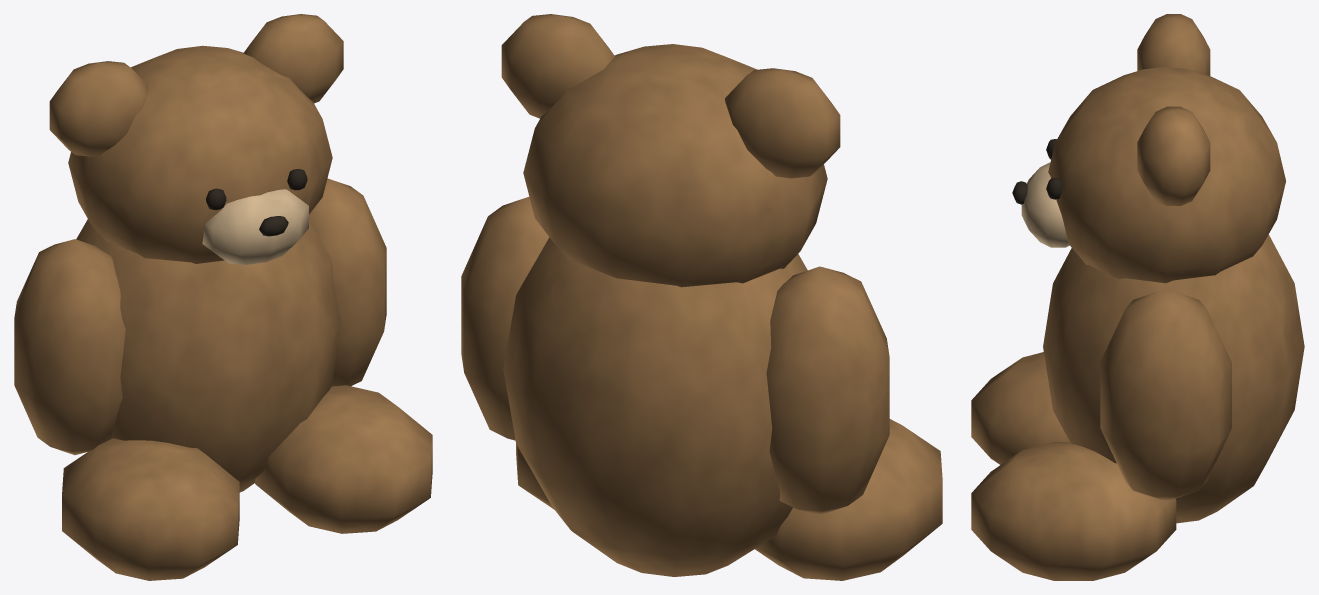
The model's file is Furn_DecorPlush.fbx.
The picture shows the model from 3 angles, left to right: view 1: azimuth 30°, elevation 25°; view 2: azimuth 150°, elevation 25°; view 3: azimuth 270°, elevation 25°; orthographic projection. The views are drawn at different scales.
Parts seen in each view (by area): view 1: Furn_DecorPlush_Mesh; view 2: Furn_DecorPlush_Mesh; view 3: Furn_DecorPlush_Mesh.
Part boxes in pixels (box(x1,y1,x2,y2)): Furn_DecorPlush_Mesh: box(14, 14, 432, 580); Furn_DecorPlush_Mesh: box(461, 14, 942, 580); Furn_DecorPlush_Mesh: box(971, 14, 1304, 580).
Size of the model in its own units: 0.3 by 0.38 by 0.25.
3 materials, 3 textured.
